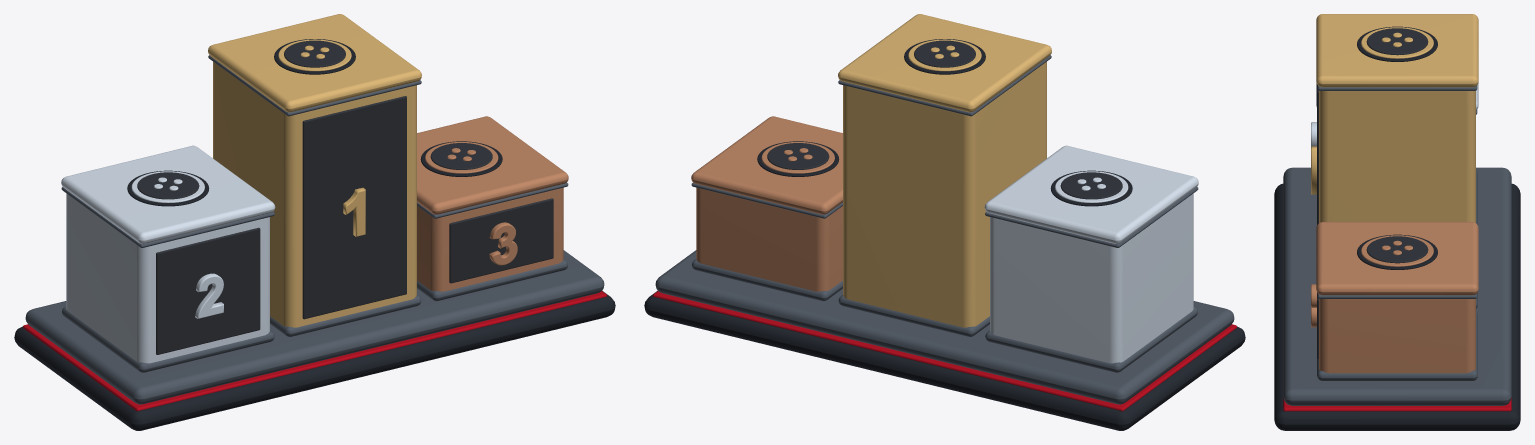
File: spin-podium-v2.glb
3 renders of one model, left to right at view 1: azimuth 30°, elevation 25°; view 2: azimuth 150°, elevation 25°; view 3: azimuth 270°, elevation 25°, orthographic.
Visible parts, largest first — view 1: SM_Face_Inset_1, SM_Podium_Upper_Deck, SM_Step_1, SM_Step_2, SM_Podium_Shadow_Base, SM_Cap_Polished_1, SM_Cap_Polished_2, SM_Face_Inset_2, SM_Cap_Polished_3, SM_Face_Inset_3, SM_Step_3, SM_Podium_Red_Reveal (+18 smaller); view 2: SM_Step_1, SM_Step_2, SM_Podium_Upper_Deck, SM_Podium_Shadow_Base, SM_Step_3, SM_Cap_Polished_1, SM_Cap_Polished_2, SM_Cap_Polished_3, SM_Podium_Red_Reveal, SM_Step_Foot_2, SM_Step_Foot_1, SM_Step_Foot_3 (+12 smaller); view 3: SM_Step_1, SM_Podium_Upper_Deck, SM_Step_3, SM_Cap_Polished_1, SM_Cap_Polished_3, SM_Podium_Shadow_Base, SM_Step_Foot_3, SM_Podium_Red_Reveal, SM_Top_Enamel_3, SM_Top_Enamel_1, SM_Cap_Lower_1, SM_Cap_Lower_3 (+7 smaller).
Boxes of the visible parts, x1=… form: SM_Face_Inset_1: x1=302, y1=96, x2=406, y2=319; SM_Podium_Upper_Deck: x1=25, y1=250, x2=604, y2=404; SM_Step_1: x1=213, y1=61, x2=416, y2=327; SM_Step_2: x1=66, y1=193, x2=269, y2=363; SM_Podium_Shadow_Base: x1=14, y1=291, x2=615, y2=430; SM_Cap_Polished_1: x1=208, y1=14, x2=421, y2=112; SM_Cap_Polished_2: x1=61, y1=145, x2=275, y2=243; SM_Face_Inset_2: x1=156, y1=227, x2=260, y2=354; SM_Cap_Polished_3: x1=417, y1=116, x2=568, y2=214; SM_Face_Inset_3: x1=449, y1=198, x2=553, y2=283; SM_Step_3: x1=417, y1=187, x2=563, y2=291; SM_Podium_Red_Reveal: x1=23, y1=291, x2=606, y2=411; SM_Step_1: x1=843, y1=61, x2=1046, y2=327; SM_Step_2: x1=990, y1=193, x2=1193, y2=363; SM_Podium_Upper_Deck: x1=655, y1=250, x2=1234, y2=404; SM_Podium_Shadow_Base: x1=644, y1=291, x2=1245, y2=430; SM_Step_3: x1=696, y1=187, x2=842, y2=291; SM_Cap_Polished_1: x1=838, y1=14, x2=1051, y2=112; SM_Cap_Polished_2: x1=984, y1=145, x2=1198, y2=243; SM_Cap_Polished_3: x1=691, y1=116, x2=842, y2=214; SM_Podium_Red_Reveal: x1=653, y1=291, x2=1236, y2=411; SM_Step_Foot_2: x1=985, y1=307, x2=1197, y2=372; SM_Step_Foot_1: x1=838, y1=295, x2=989, y2=336; SM_Step_Foot_3: x1=692, y1=259, x2=842, y2=301; SM_Step_1: x1=1319, y1=90, x2=1475, y2=222; SM_Podium_Upper_Deck: x1=1283, y1=167, x2=1511, y2=405; SM_Step_3: x1=1319, y1=299, x2=1475, y2=373; SM_Cap_Polished_1: x1=1316, y1=14, x2=1478, y2=87; SM_Cap_Polished_3: x1=1316, y1=222, x2=1478, y2=295; SM_Podium_Shadow_Base: x1=1274, y1=183, x2=1520, y2=430; SM_Step_Foot_3: x1=1317, y1=311, x2=1477, y2=380; SM_Podium_Red_Reveal: x1=1283, y1=397, x2=1511, y2=411; SM_Top_Enamel_3: x1=1366, y1=236, x2=1428, y2=263; SM_Top_Enamel_1: x1=1366, y1=28, x2=1428, y2=55; SM_Cap_Lower_1: x1=1317, y1=85, x2=1477, y2=90; SM_Cap_Lower_3: x1=1317, y1=293, x2=1477, y2=298.
Size of the model in its own units: 0.397 by 0.2193 by 0.176.
